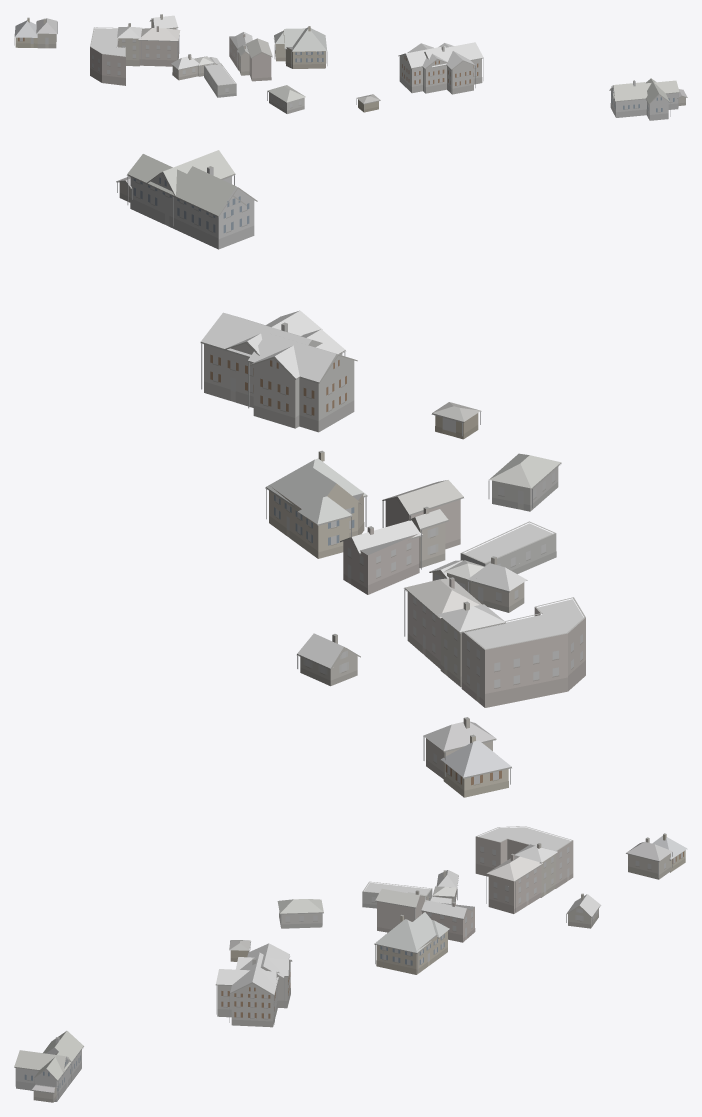
3 renders of one model, top to bottom at view 1: azimuth 30°, elevation 25°; view 2: azimuth 150°, elevation 25°; view 3: azimuth 270°, elevation 25°, orthographic. The views are drawn at different scales.
Visible parts, largest first — view 1: bld; view 2: bld; view 3: bld.
Part boxes in pixels (x1,y1,x2,y2): bld: (14, 14, 687, 120); bld: (116, 150, 585, 797); bld: (14, 826, 687, 1102).
Size of the model in its own units: 149 by 16.58 by 156.
